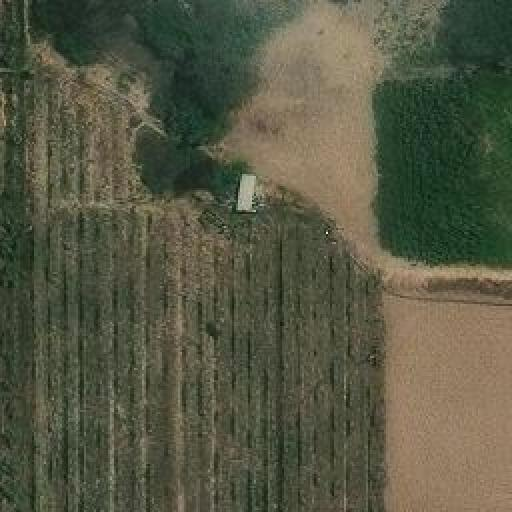manzanas: (228, 169, 263, 213)
